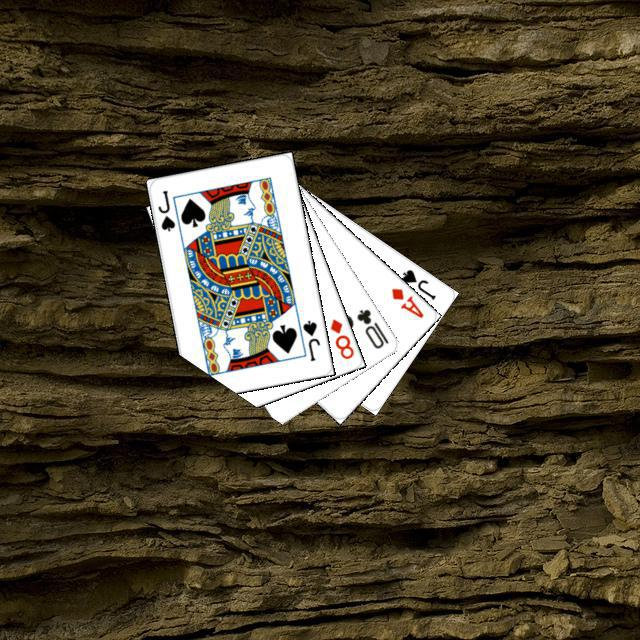10c: (352, 304, 390, 350)
8d: (325, 314, 356, 361)
Ad: (386, 283, 426, 320)
Js: (397, 264, 437, 301), (153, 185, 177, 233), (298, 315, 321, 363)
